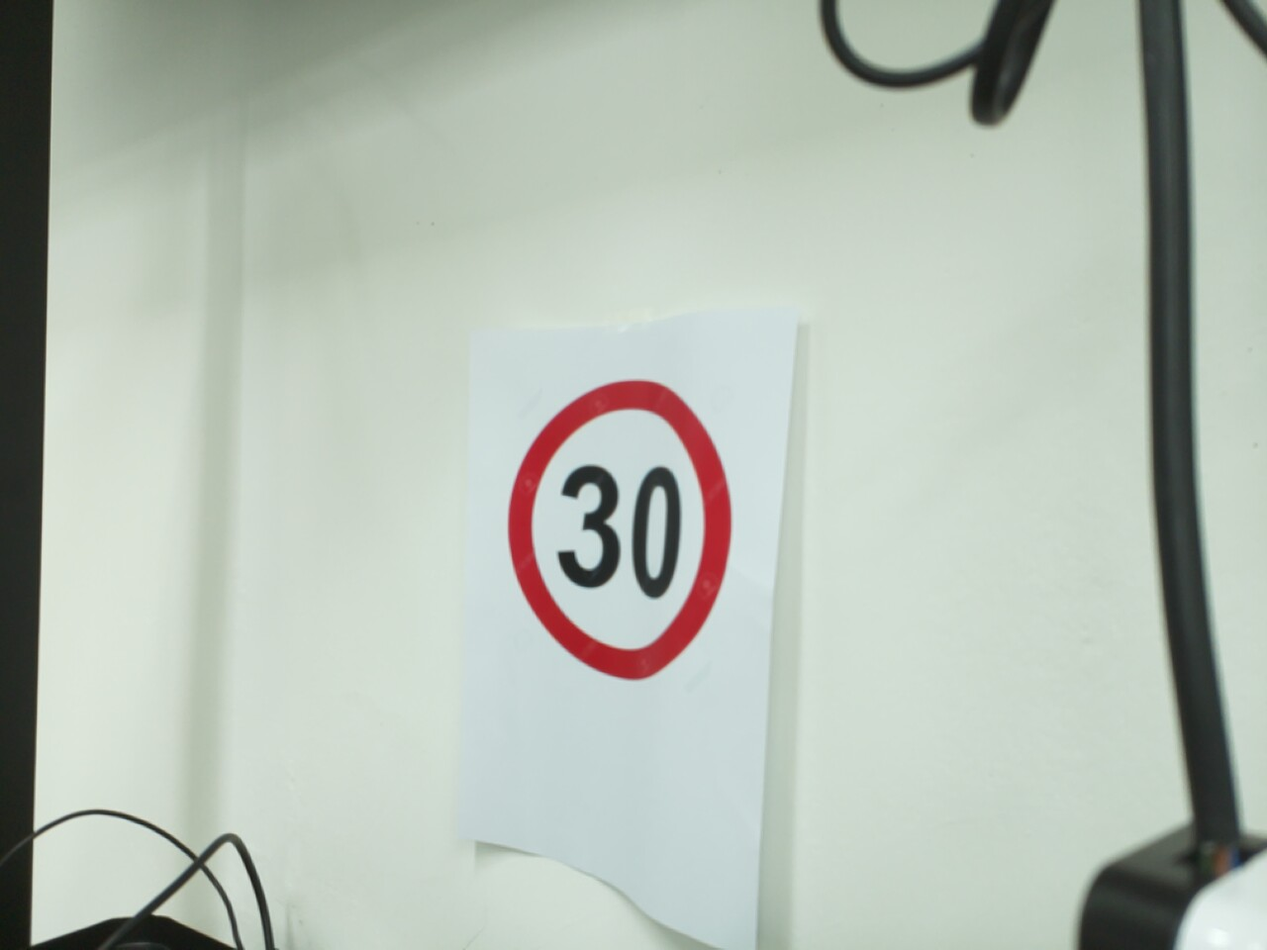speed_30: (500, 370, 739, 690)
